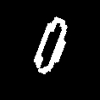chain: (34, 17, 66, 73)
